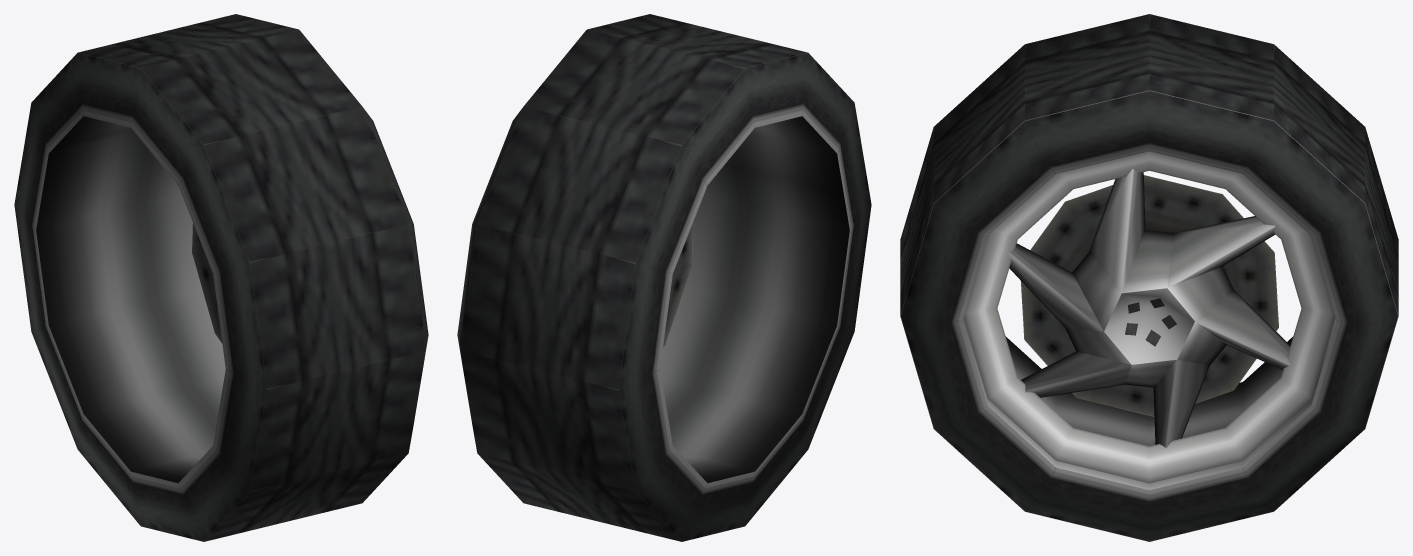
Rendered from DefaultWheel_uranus.glb.
The picture shows the model from 3 angles, left to right: view 1: azimuth 30°, elevation 25°; view 2: azimuth 150°, elevation 25°; view 3: azimuth 270°, elevation 25°; orthographic projection.
Parts seen in each view (by area): view 1: wheel; view 2: wheel; view 3: wheel.
Part boxes in pixels (x1,y1,x2,y2): wheel: [14, 14, 428, 541]; wheel: [457, 14, 871, 541]; wheel: [900, 14, 1398, 541].
Size of the model in its own units: 0.3 by 0.6907 by 0.6907.
2 materials, 2 textured.
